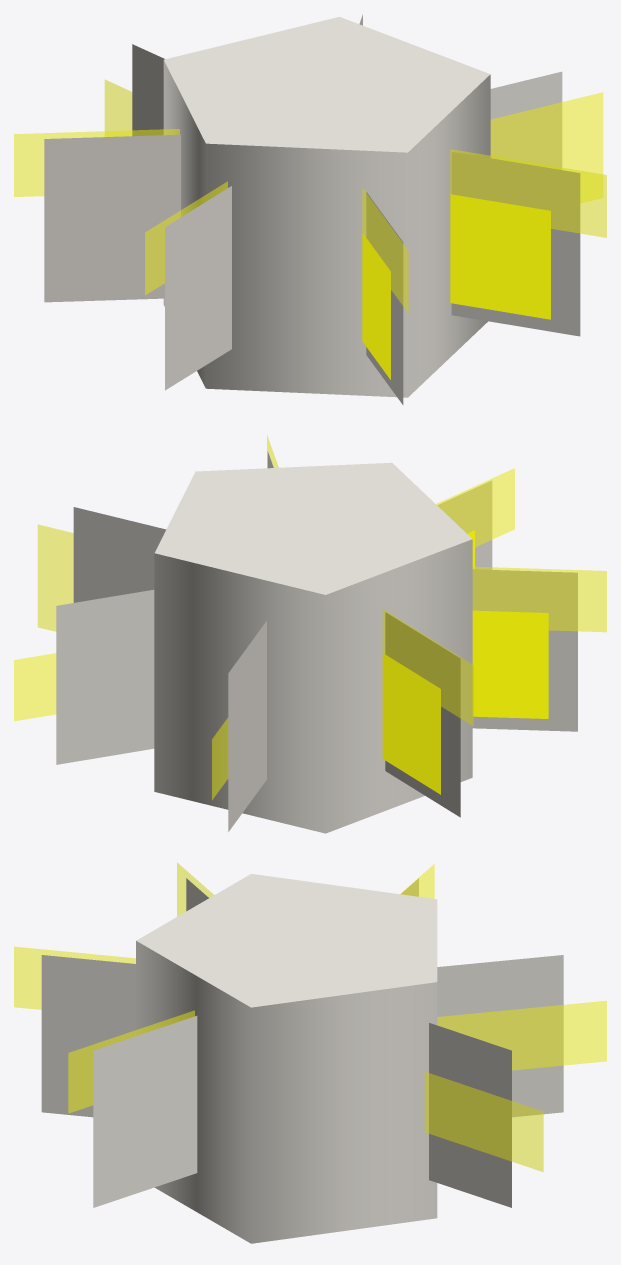
File: pentagonal-prism.glb
3 renders of one model, top to bottom at view 1: azimuth 30°, elevation 25°; view 2: azimuth 150°, elevation 25°; view 3: azimuth 270°, elevation 25°, orthographic. The views are drawn at different scales.
Parts seen in each view (by area): view 1: TriQR_Body, TriQR_Label (×6), TriQR_FaceSurface_face-5, TriQR_QR_face-2, TriQR_FaceSurface_face-4, TriQR_FaceSurface_face-2, TriQR_FaceSurface_name-face, TriQR_FaceSurface_face-3, TriQR_QR_face-3, TriQR_FaceSurface_face-6; view 2: TriQR_Body, TriQR_Label (×6), TriQR_FaceSurface_face-7, TriQR_FaceSurface_face-4, TriQR_QR_face-4, TriQR_FaceSurface_name-face, TriQR_QR_face-5, TriQR_FaceSurface_face-6, TriQR_FaceSurface_face-5, TriQR_FaceSurface_face-3; view 3: TriQR_Body, TriQR_Label (×6), TriQR_FaceSurface_face-2, TriQR_FaceSurface_face-6, TriQR_FaceSurface_face-7, TriQR_FaceSurface_face-3.
Part boxes in pixels (bbox=[...]): TriQR_Body: bbox=[163, 17, 490, 397]; TriQR_Label (×6): bbox=[14, 80, 606, 312]; TriQR_FaceSurface_face-5: bbox=[44, 134, 180, 302]; TriQR_QR_face-2: bbox=[450, 194, 550, 319]; TriQR_FaceSurface_face-4: bbox=[165, 186, 231, 390]; TriQR_FaceSurface_face-2: bbox=[451, 152, 580, 336]; TriQR_FaceSurface_name-face: bbox=[490, 71, 562, 169]; TriQR_FaceSurface_face-3: bbox=[366, 192, 403, 404]; TriQR_QR_face-3: bbox=[362, 233, 390, 379]; TriQR_FaceSurface_face-6: bbox=[132, 44, 164, 136]; TriQR_Body: bbox=[154, 462, 472, 833]; TriQR_Label (×6): bbox=[14, 468, 606, 799]; TriQR_FaceSurface_face-7: bbox=[56, 589, 154, 764]; TriQR_FaceSurface_face-4: bbox=[472, 569, 577, 731]; TriQR_QR_face-4: bbox=[472, 610, 548, 718]; TriQR_FaceSurface_name-face: bbox=[73, 507, 166, 602]; TriQR_QR_face-5: bbox=[382, 653, 440, 794]; TriQR_FaceSurface_face-6: bbox=[228, 621, 266, 831]; TriQR_FaceSurface_face-5: bbox=[385, 612, 460, 817]; TriQR_FaceSurface_face-3: bbox=[437, 480, 492, 569]; TriQR_Body: bbox=[136, 874, 437, 1243]; TriQR_Label (×6): bbox=[14, 862, 606, 1171]; TriQR_FaceSurface_face-2: bbox=[93, 1016, 197, 1207]; TriQR_FaceSurface_face-6: bbox=[437, 955, 563, 1117]; TriQR_FaceSurface_face-7: bbox=[429, 1023, 511, 1207]; TriQR_FaceSurface_face-3: bbox=[41, 955, 135, 1117].
Size of the model in its own units: 4.01 by 1.8 by 4.1.
19 materials, 11 textured.
